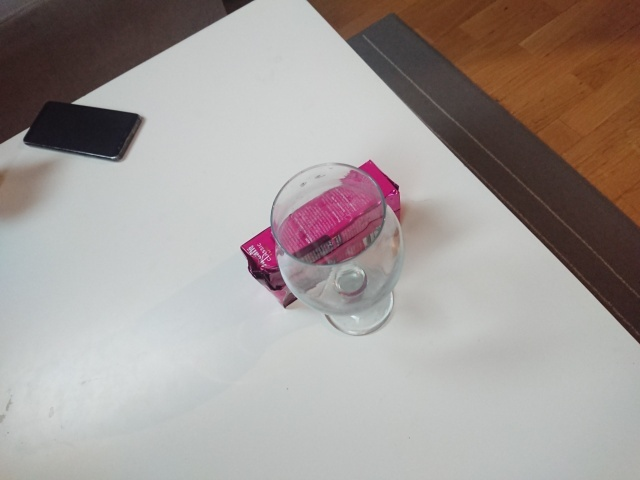Barcaffe Classic Original 225g: (238, 157, 404, 310)
